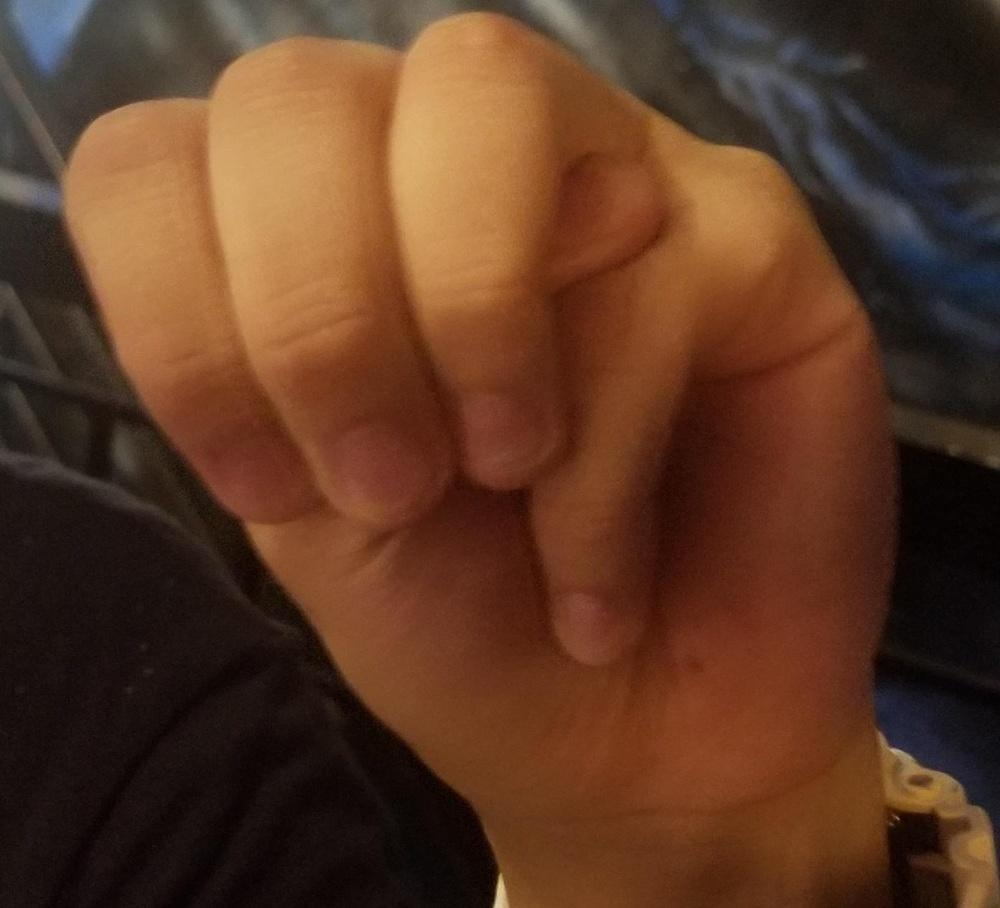m: (60, 4, 894, 703)
